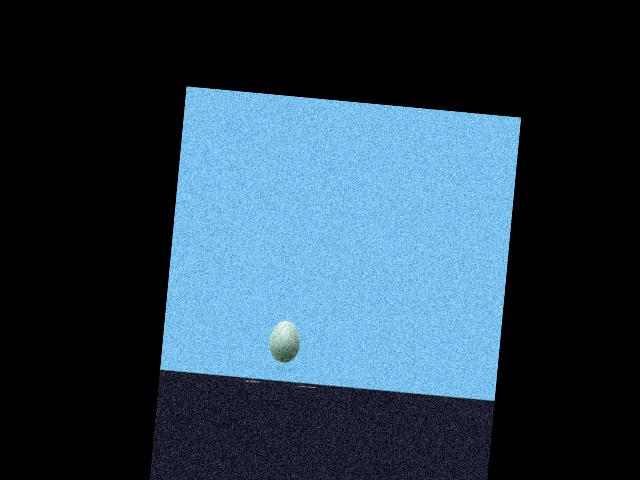egg: (267, 319, 302, 363)
